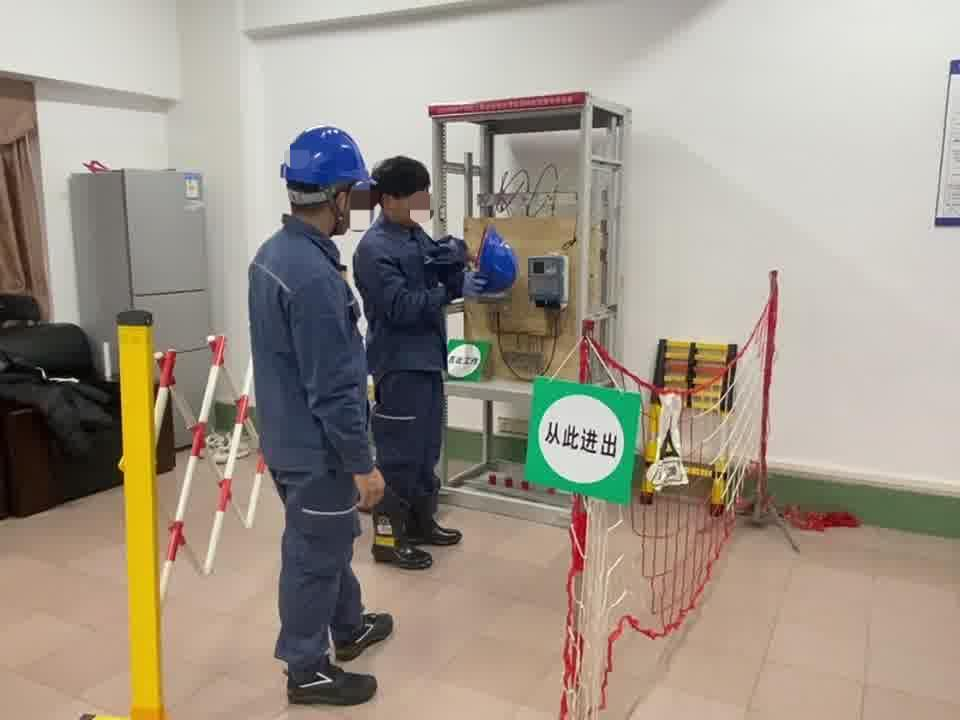halt: (281, 127, 375, 235)
inear: (324, 186, 356, 228)
noear: (378, 190, 411, 222)
unhalt: (374, 160, 436, 228)
